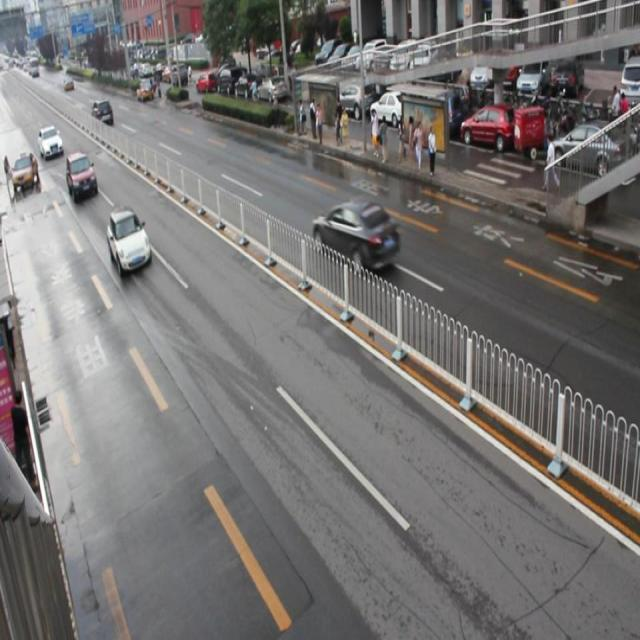car: (311, 197, 400, 270), (106, 207, 152, 277), (65, 150, 98, 201)
